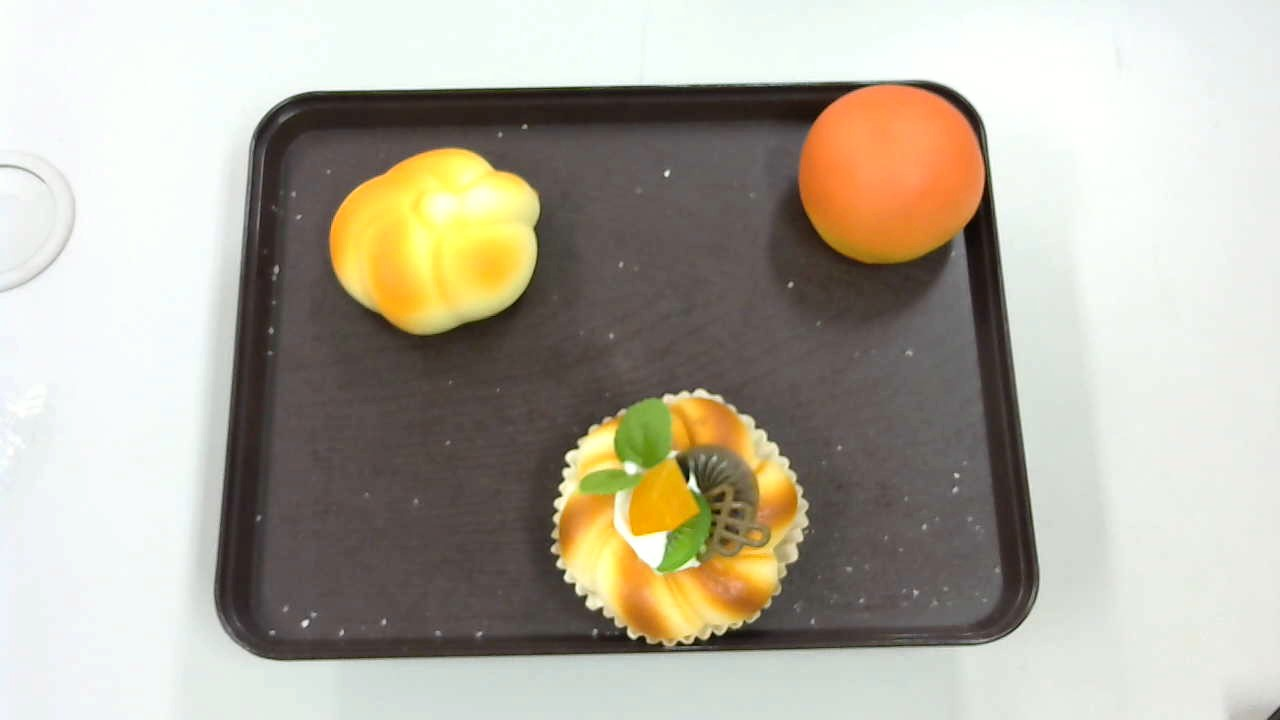bun: (796, 83, 986, 263)
croissant: (330, 147, 540, 335)
fruit tart: (551, 389, 809, 647)
